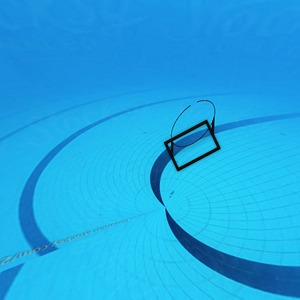circle: (163, 98, 224, 173)
